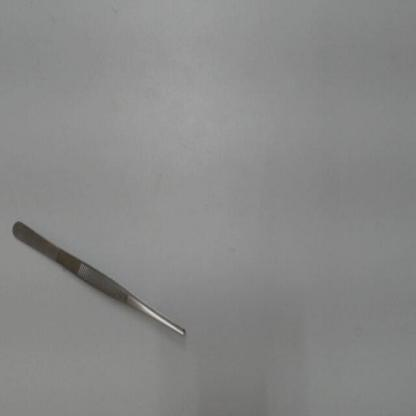Gillies Toothed Dissector: (10, 206, 197, 358)
